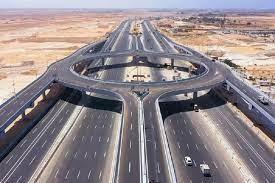road: (0, 19, 274, 182)
